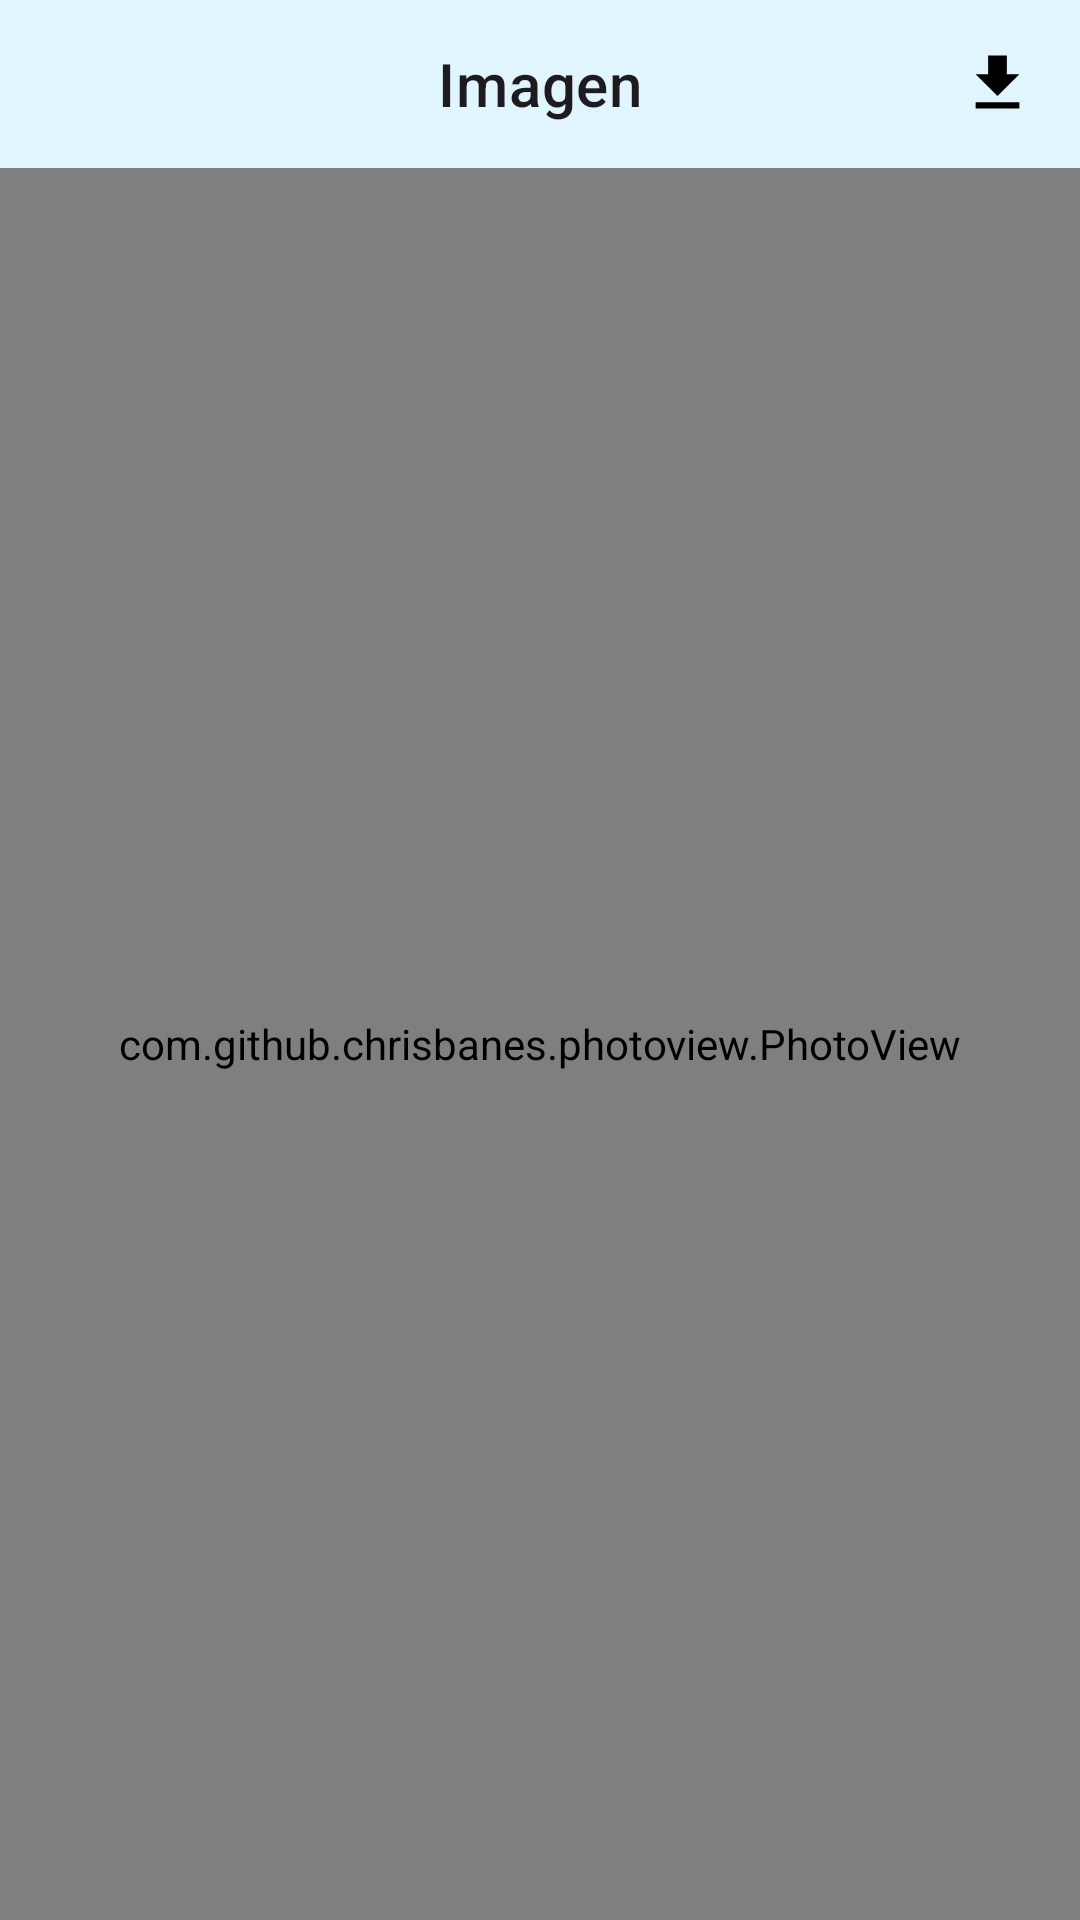

Named icons in this screenshot (1080 × 1920) and their bounding boxes, region(x1, y1, x2, y2):
download: region(975, 55, 1020, 109)
